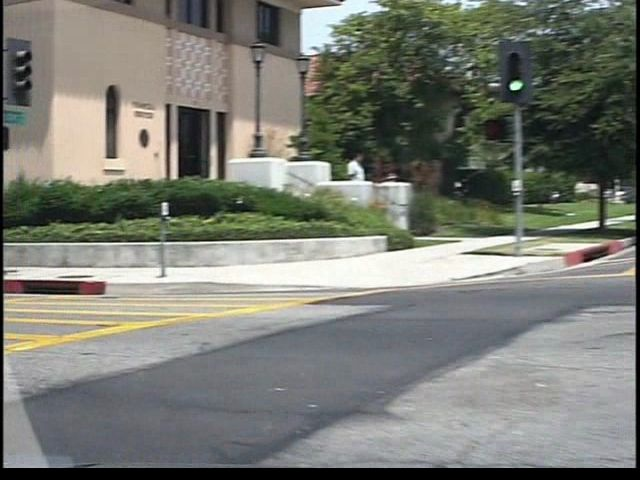person: (328, 150, 352, 219)
